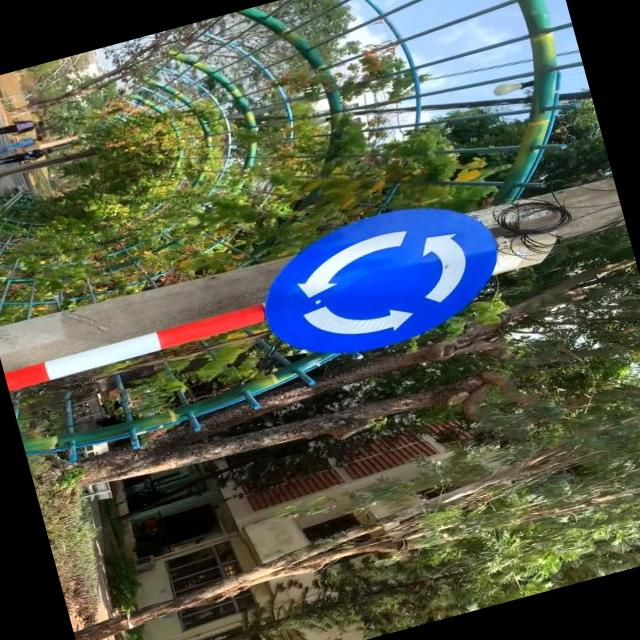R-303: (250, 186, 515, 373)
